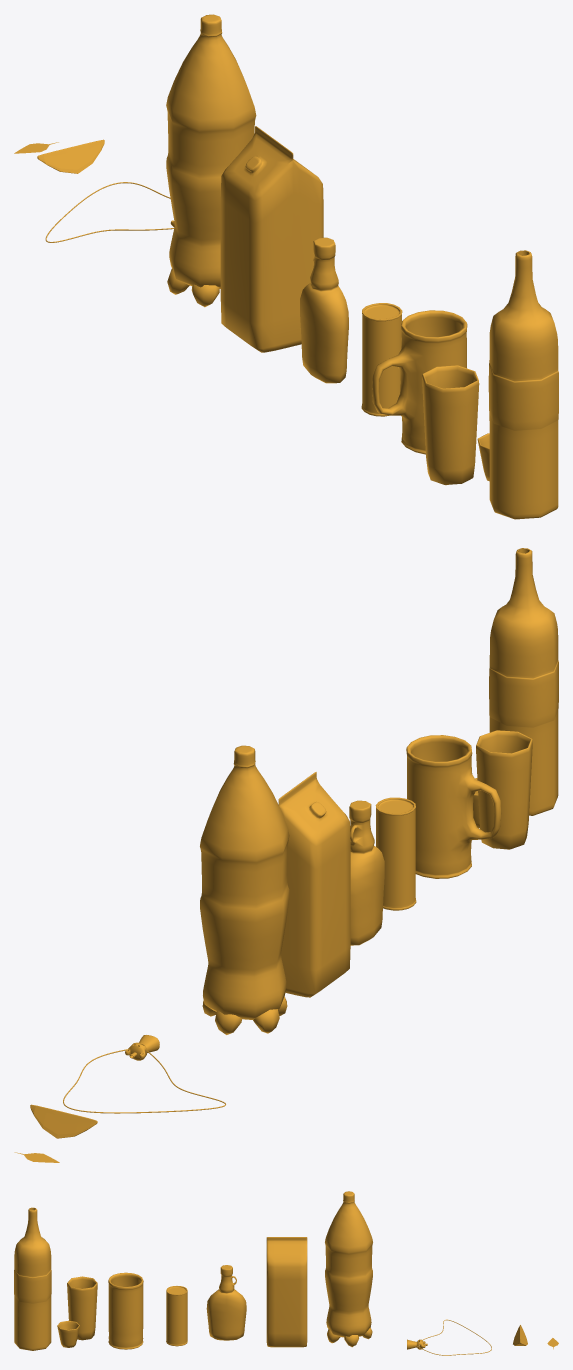
Rendered from Drinks Final.fbx.
The picture shows the model from 3 angles, top to bottom: view 1: azimuth 30°, elevation 25°; view 2: azimuth 150°, elevation 25°; view 3: azimuth 270°, elevation 25°; orthographic projection. The views are drawn at different scales.
Visible parts, largest first — view 1: OJ, Soda, Liquor Bottle.003, Beer, Tall Glass, Syrup, Can, Lime; view 2: Soda, OJ, Liquor Bottle.003, Beer, Tall Glass, Syrup, Can, Lime, Poison; view 3: Soda, OJ, Liquor Bottle.003, Beer, Syrup, Tall Glass, Can, Shot Glass, Poison.
Part boxes in pixels (<box>): OJ: <box>220,126,323,352</box>; Soda: <box>166,14,256,307</box>; Liquor Bottle.003: <box>488,250,558,519</box>; Beer: <box>372,310,467,454</box>; Tall Glass: <box>422,365,479,485</box>; Syrup: <box>300,237,348,383</box>; Can: <box>361,303,402,416</box>; Lime: <box>37,139,104,173</box>; Soda: <box>200,745,289,1034</box>; OJ: <box>278,772,350,997</box>; Liquor Bottle.003: <box>489,548,558,815</box>; Beer: <box>406,735,501,878</box>; Tall Glass: <box>476,730,532,849</box>; Syrup: <box>349,800,384,945</box>; Can: <box>375,797,416,910</box>; Lime: <box>30,1104,97,1138</box>; Poison: <box>63,1035,225,1113</box>; Soda: <box>325,1191,372,1347</box>; OJ: <box>266,1237,307,1347</box>; Liquor Bottle.003: <box>14,1207,51,1350</box>; Beer: <box>108,1272,143,1349</box>; Syrup: <box>206,1265,246,1340</box>; Tall Glass: <box>67,1276,97,1340</box>; Can: <box>166,1286,187,1346</box>; Shot Glass: <box>57,1320,79,1347</box>; Poison: <box>407,1319,491,1355</box>.
Size of the model in its own units: 21.64 by 134 by 39.53.
